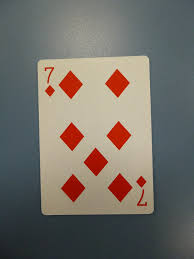seven of diamonds: (36, 55, 154, 216)
